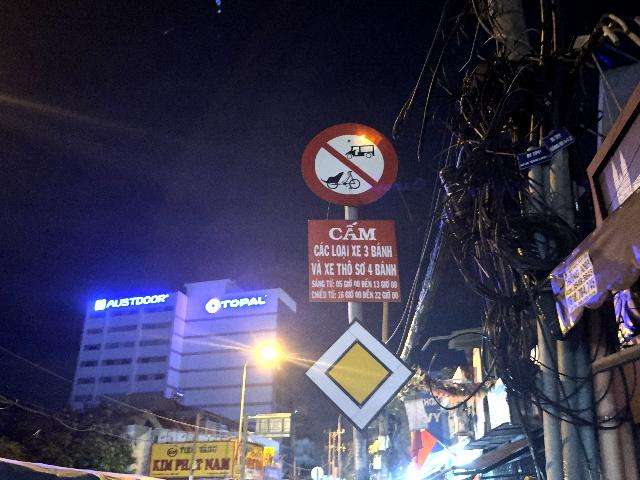bat-dau-duong-uu-tien: (304, 315, 417, 433)
cam-xe-3-banh-xe-tho-so-4-banh: (300, 123, 398, 207)
